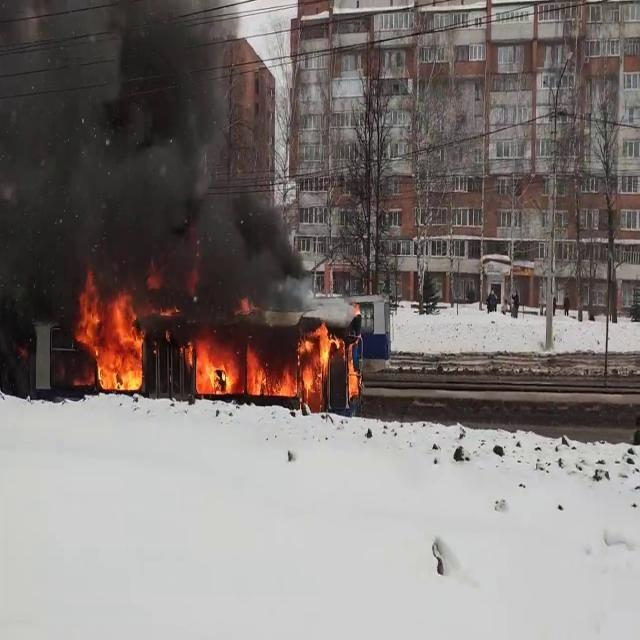Fire: (182, 317, 358, 402), (69, 270, 148, 393), (296, 315, 358, 403)
Smoke: (0, 0, 314, 318)
